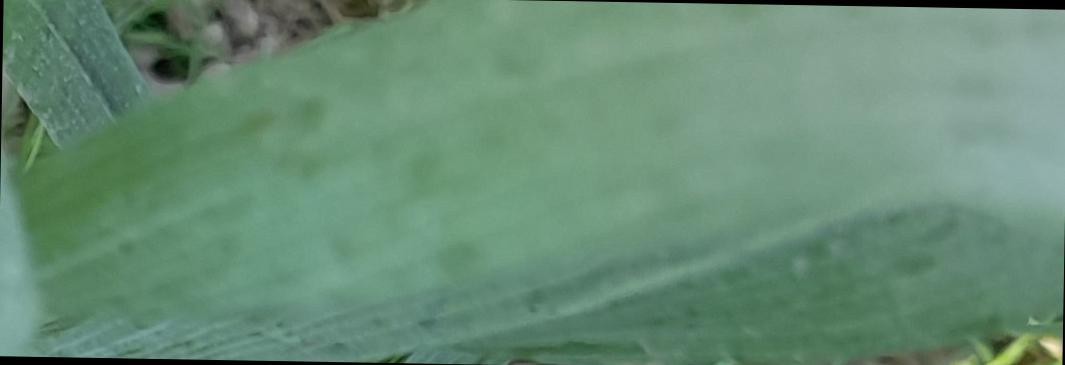Wheat: (429, 15, 1056, 304), (84, 144, 420, 353), (264, 70, 423, 139)
